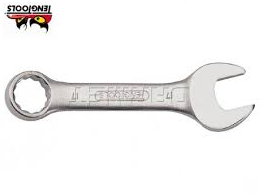Wrench: (4, 61, 259, 136)
